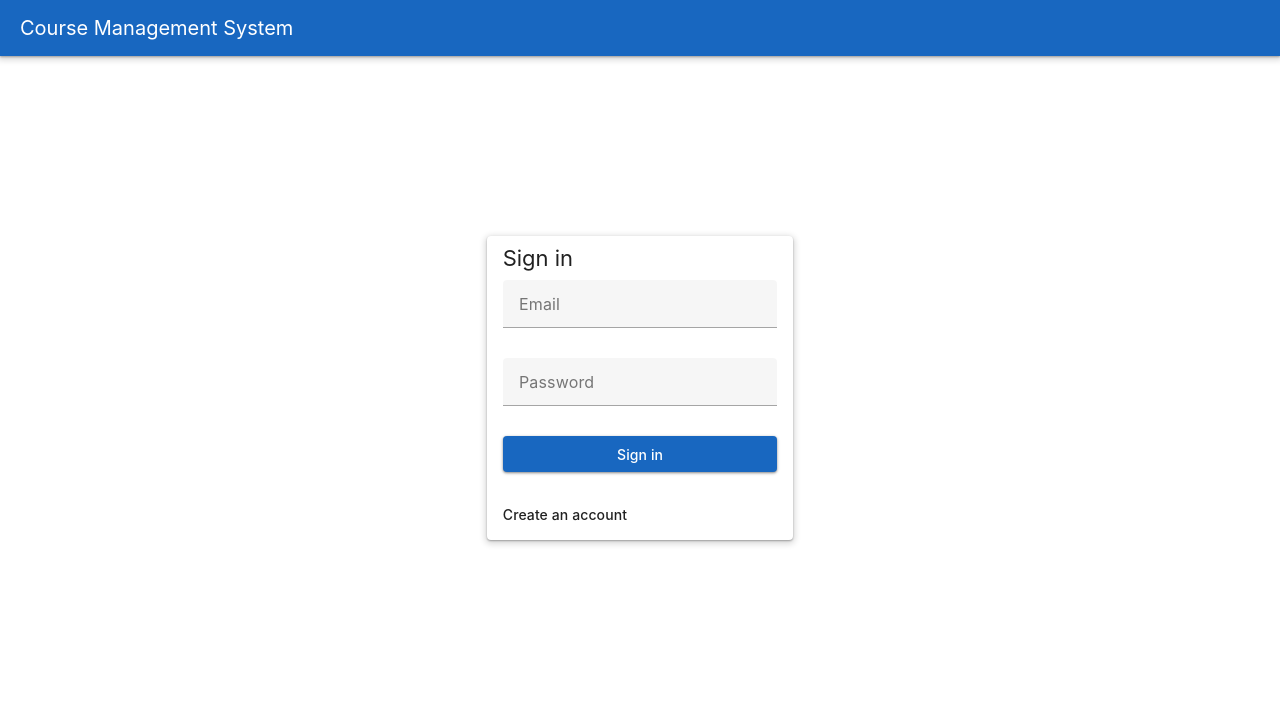
Test: Feature 1 — User Authentication and Session Management UI › US-1.2 — Sign in › User logs in with an unknown email
In the field labelled "Email": (640, 304) [503, 280, 777, 328], type "nobody@example.com"
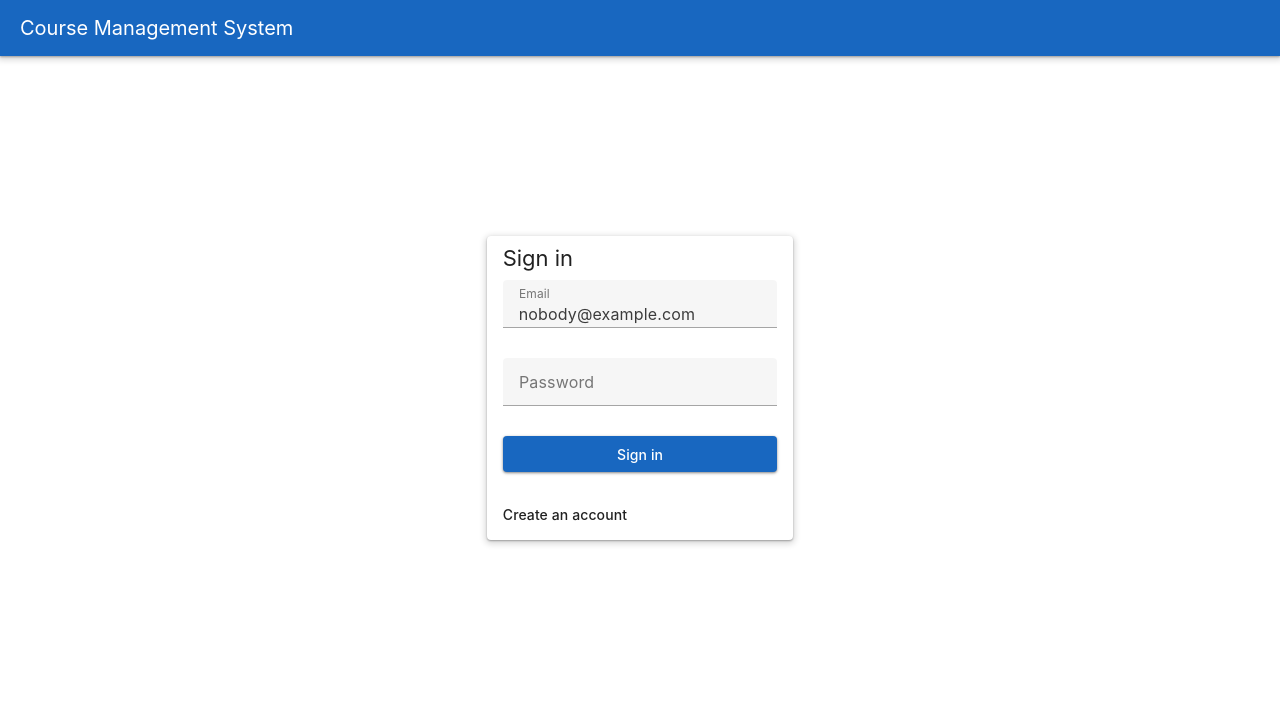
In the password field labelled "Password": (640, 382) [503, 358, 777, 406], type "password1"
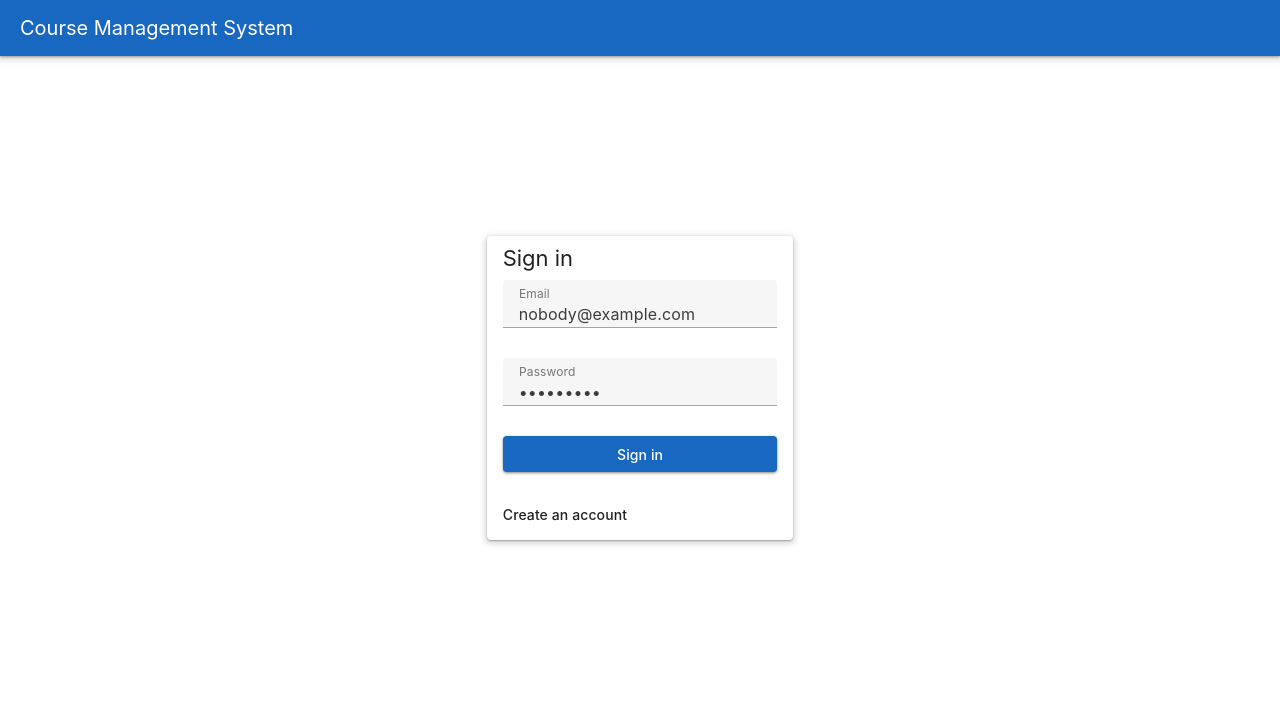
Submit the form, box [503, 280, 777, 472]
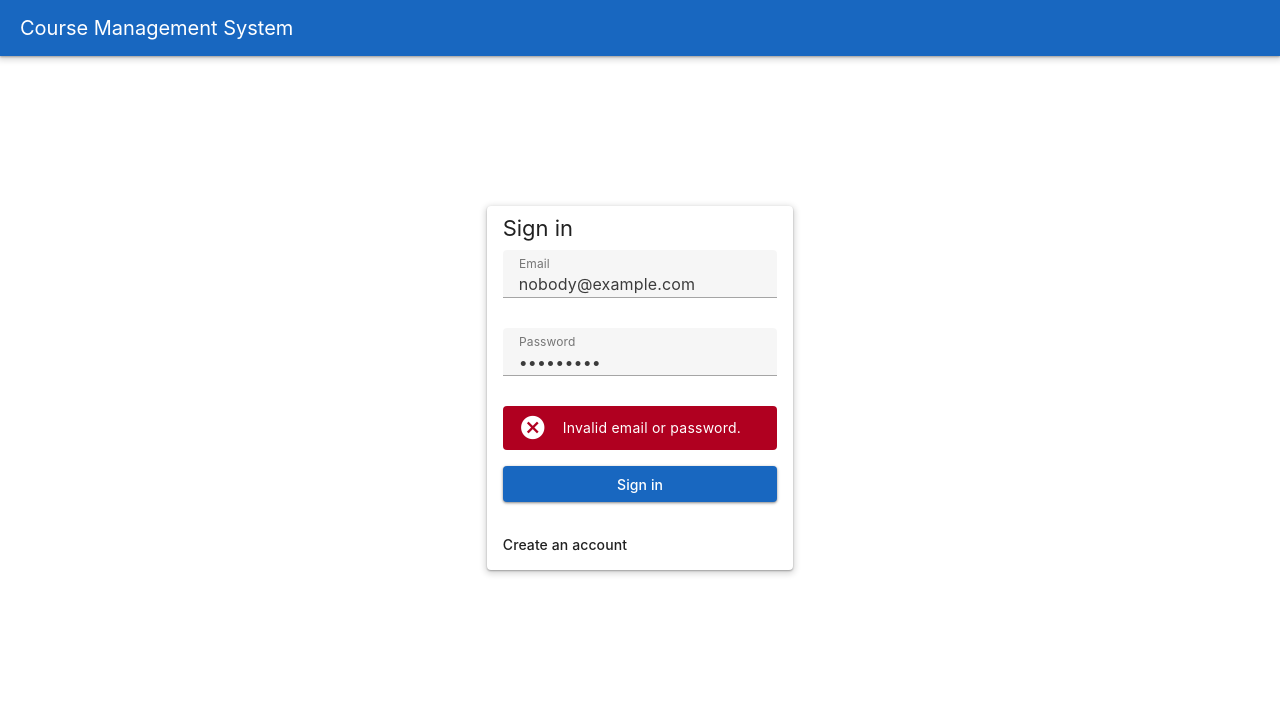
Expected: the message "Invalid email or password." is shown, [503, 406, 777, 450]
